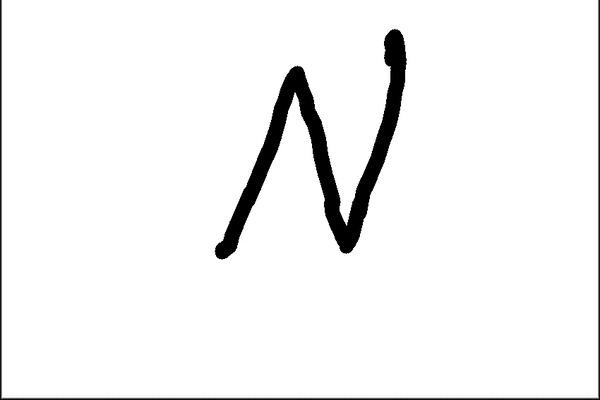N: (208, 25, 410, 263)
